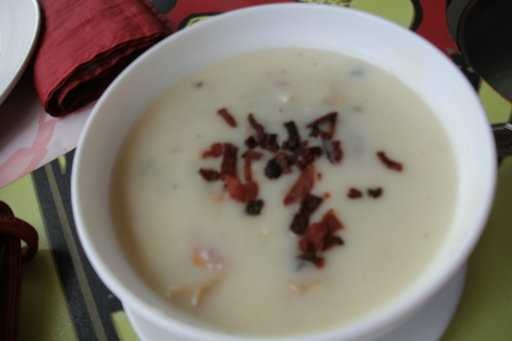soup: (95, 38, 457, 317)
